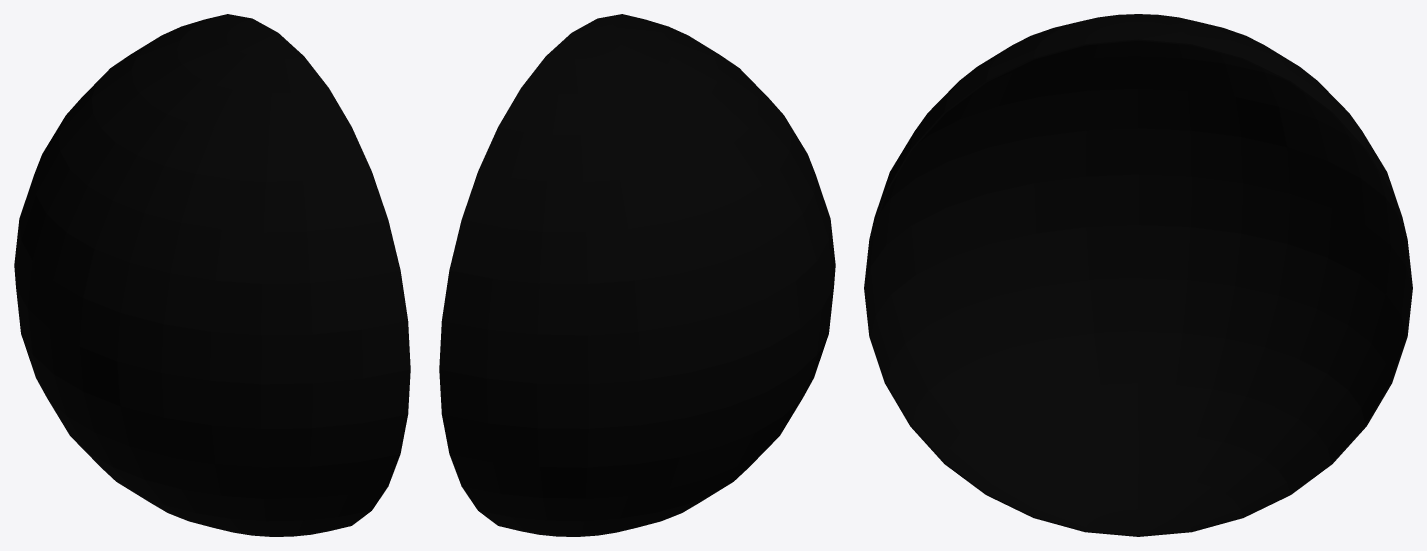
The model's file is SpaceSemiSphere.glb.
3 views of the same model, side by side, from view 1: azimuth 30°, elevation 25°; view 2: azimuth 150°, elevation 25°; view 3: azimuth 270°, elevation 25° (orthographic). The views are drawn at different scales.
Parts seen in each view (by area): view 1: Sphere; view 2: Sphere; view 3: Sphere.
Boxes of the visible parts, <box> form: Sphere: <box>14,14,410,536</box>; Sphere: <box>439,14,835,536</box>; Sphere: <box>864,14,1412,536</box>.
Bounding box in the file's own units: 100 × 200 × 200.
1 material, 1 textured.
